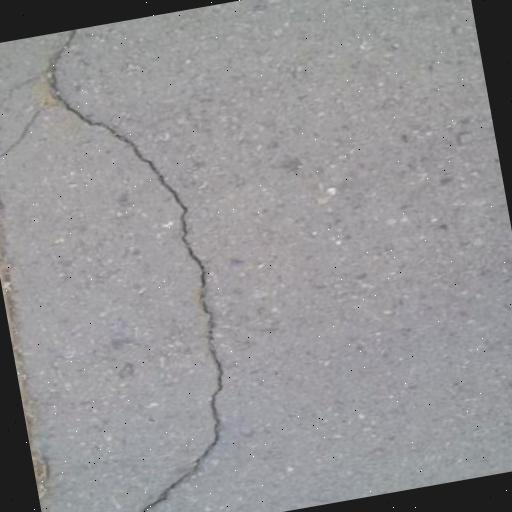spalling: (43, 37, 235, 512)
